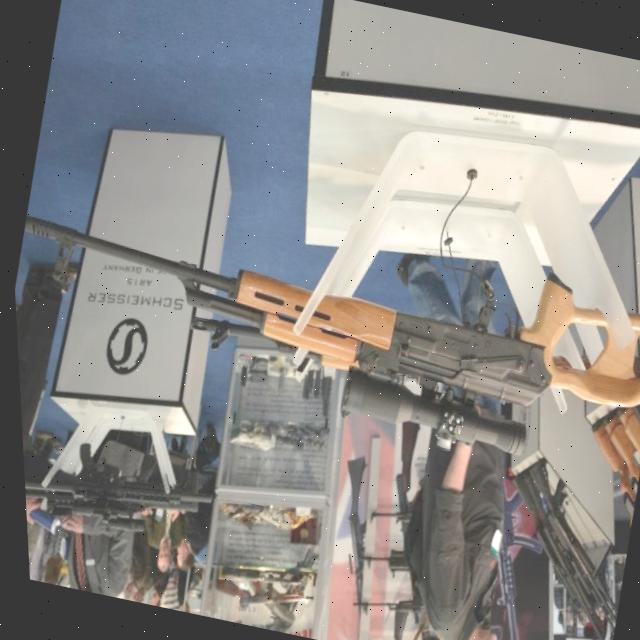firearm: (7, 167, 640, 483), (496, 460, 639, 637), (17, 428, 215, 543), (450, 475, 550, 640), (314, 452, 385, 606), (200, 564, 305, 626), (356, 583, 416, 627), (360, 626, 436, 640)
